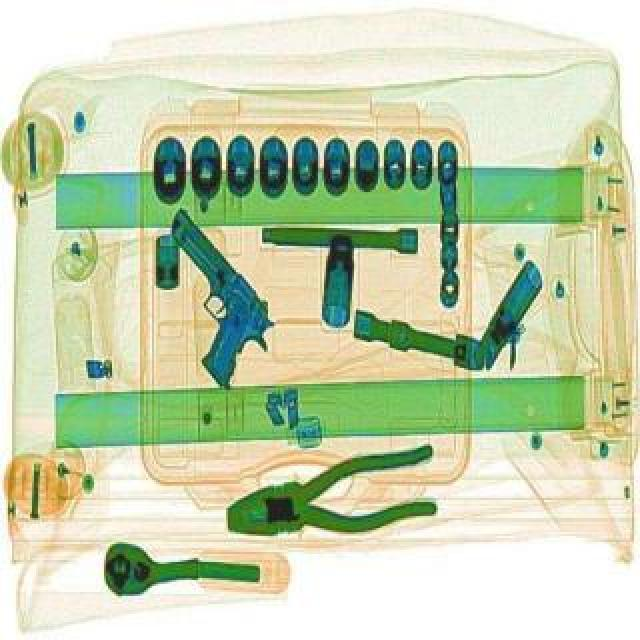gun: (112, 206, 296, 388)
wrench: (214, 442, 446, 554)
